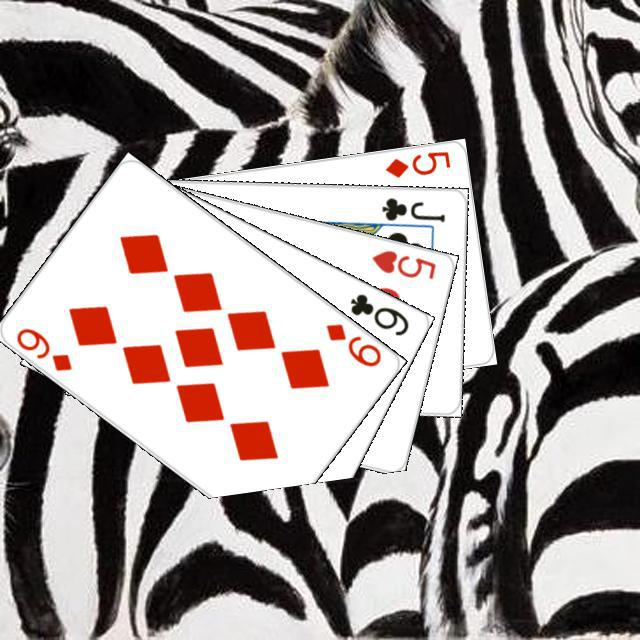5d: (380, 146, 452, 179)
5h: (366, 245, 438, 281)
6c: (345, 288, 411, 338)
9d: (320, 318, 383, 369), (11, 322, 74, 373)
Jc: (377, 192, 447, 224)
